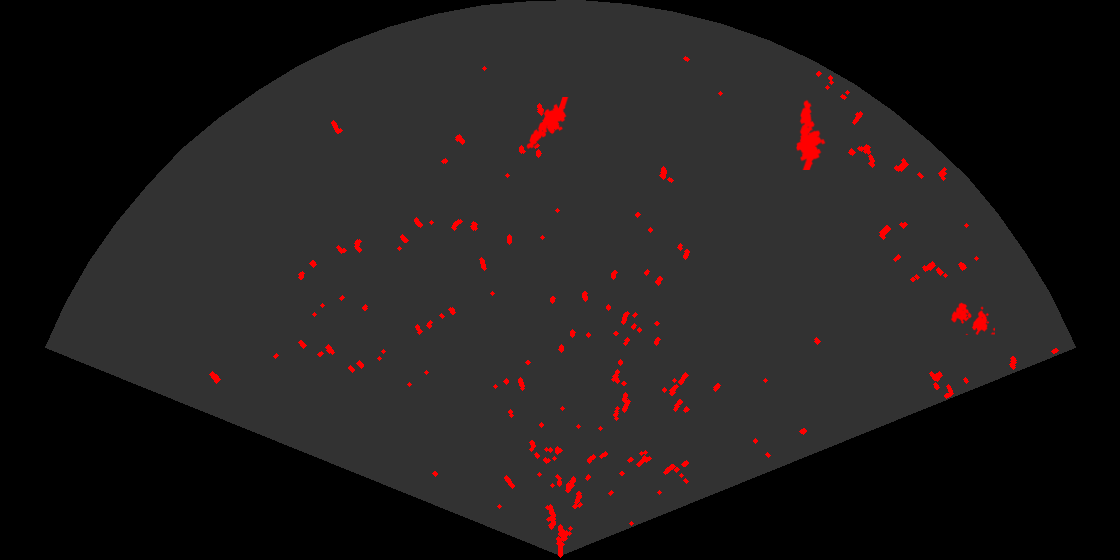cage: (949, 301, 995, 335)
frogman: (525, 97, 570, 151), (794, 98, 827, 170)
